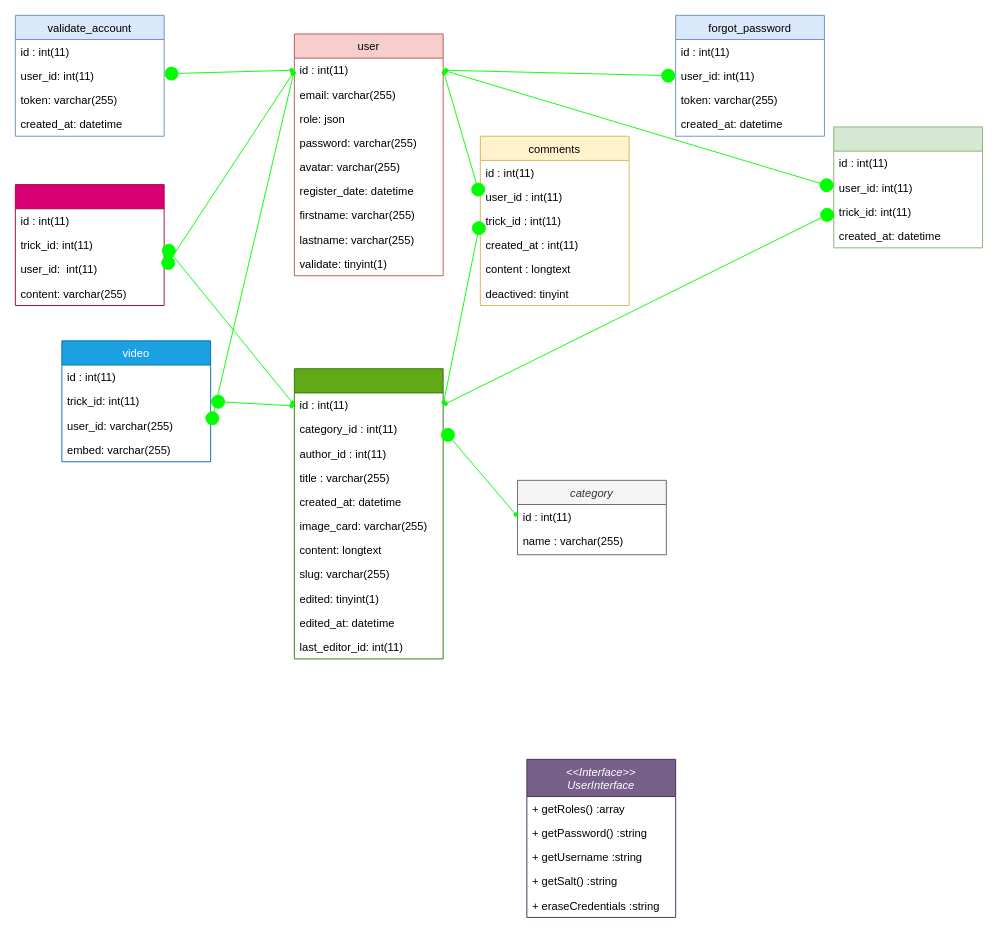
Image size: 998x933. Some labels were removed from this diagram. The box of each missing label's shape, as (x1, y1, x2, y2) in pixels:
contributor: (833, 126, 983, 248)
image: (14, 184, 164, 306)
trick: (293, 368, 443, 659)
